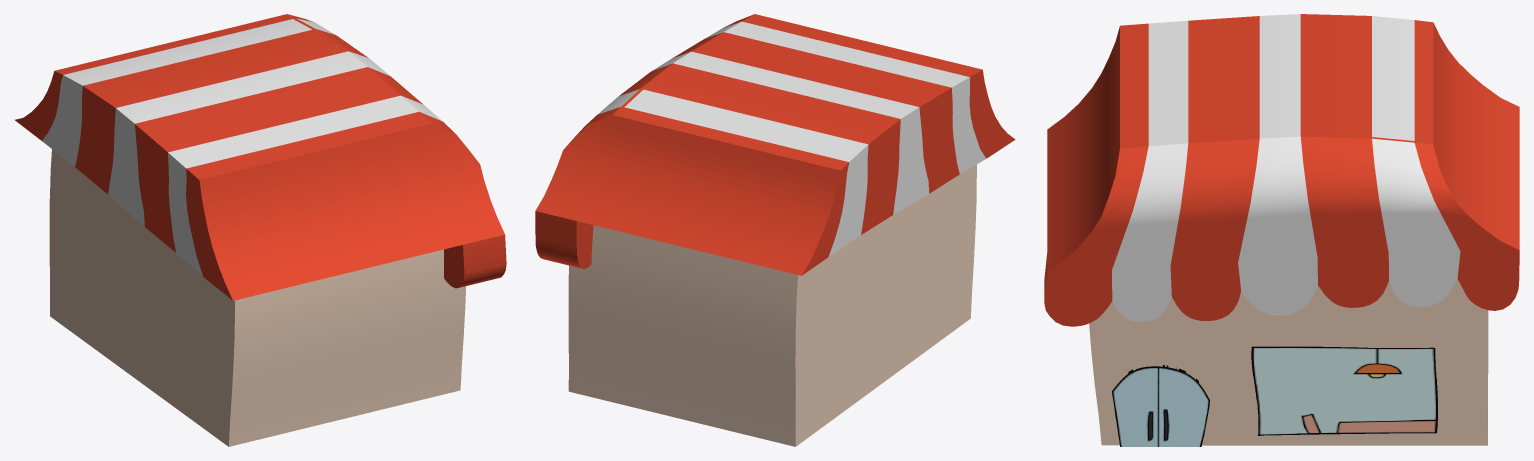
The model's file is Building 9.fbx.
The picture shows the model from 3 angles, left to right: view 1: azimuth 30°, elevation 25°; view 2: azimuth 150°, elevation 25°; view 3: azimuth 270°, elevation 25°; orthographic projection. The views are drawn at different scales.
Parts seen in each view (by area): view 1: Roof, Building 3; view 2: Roof, Building 3; view 3: Roof, Building 3, Plane, Plane.002.
Part boxes in pixels (x1=…): Roof: x1=15, y1=14, x2=506, y2=300; Building 3: x1=49, y1=149, x2=466, y2=446; Roof: x1=535, y1=14, x2=1015, y2=275; Building 3: x1=568, y1=164, x2=976, y2=446; Roof: x1=1044, y1=14, x2=1519, y2=326; Building 3: x1=1089, y1=279, x2=1488, y2=445; Plane: x1=1251, y1=346, x2=1437, y2=435; Plane.002: x1=1112, y1=365, x2=1209, y2=446.
Bounding box in the file's own units: 235 × 228 × 329.
